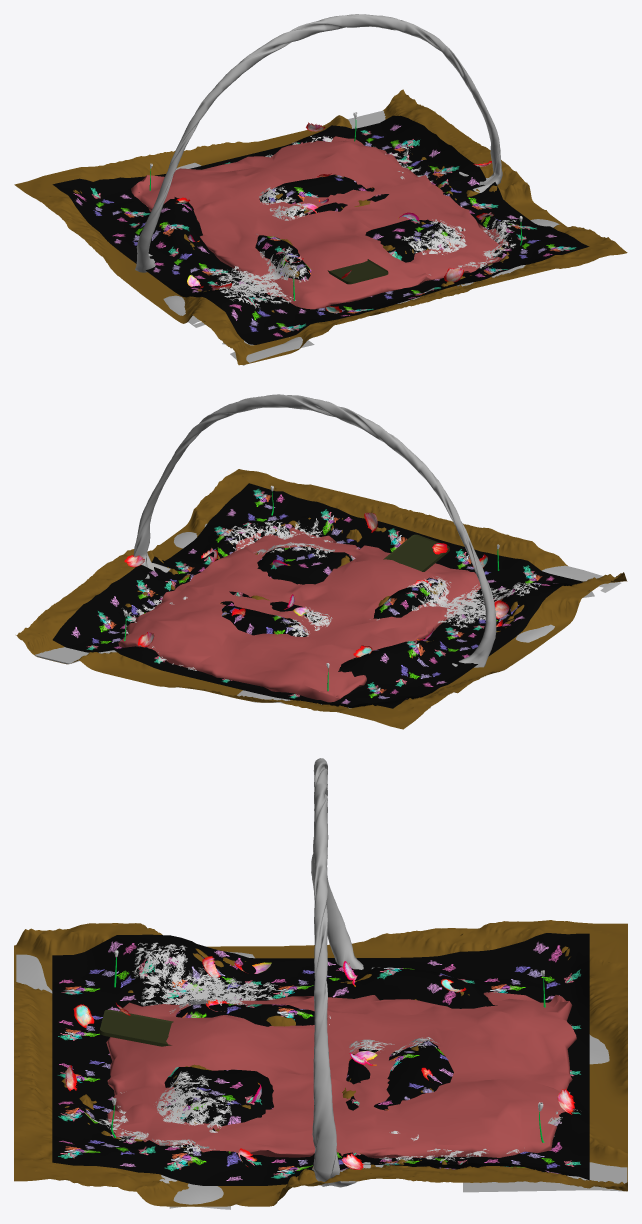
File: nuture.fbx
The picture shows the model from 3 angles, top to bottom: view 1: azimuth 30°, elevation 25°; view 2: azimuth 150°, elevation 25°; view 3: azimuth 270°, elevation 25°; orthographic projection. The views are drawn at different scales.
Parts seen in each view (by area): view 1: allconf, dir, terr, towelbase1, pPlane58, modern_mirror, pPlane63, pPlane61, polySurface5, pPlane62, pPlane60; view 2: allconf, dir, terr, towelbase1, modern_mirror, pPlane58, pPlane61, polySurface5, pPlane19, pPlane60; view 3: allconf, dir, terr, towelbase1, pPlane60, pPlane19, modern_mirror, pPlane62, pPlane63, pPlane59, polySurface1, polySurface5 (+2 smaller).
Boxes of the visible parts, box(x1,y1,x2,y2) form: allconf: box(52, 115, 589, 344); dir: box(131, 136, 508, 309); terr: box(14, 89, 627, 365); towelbase1: box(135, 14, 502, 272); pPlane58: box(237, 246, 308, 294); modern_mirror: box(327, 259, 388, 284); pPlane63: box(402, 229, 473, 275); pPlane61: box(212, 251, 291, 293); polySurface5: box(230, 337, 314, 365); pPlane62: box(430, 219, 490, 255); pPlane60: box(218, 271, 295, 303); allconf: box(52, 483, 585, 708); dir: box(118, 527, 480, 702); terr: box(16, 469, 627, 729); towelbase1: box(133, 394, 496, 667); modern_mirror: box(383, 534, 449, 571); pPlane58: box(407, 576, 483, 618); pPlane61: box(411, 582, 485, 628); polySurface5: box(542, 565, 621, 592); pPlane19: box(35, 647, 116, 664); pPlane60: box(434, 582, 520, 620); allconf: box(52, 933, 589, 1185); dir: box(106, 992, 576, 1158); terr: box(14, 920, 627, 1206); towelbase1: box(311, 758, 379, 1187); pPlane60: box(138, 951, 241, 1005); pPlane19: box(463, 1162, 627, 1192); modern_mirror: box(99, 1009, 173, 1046); pPlane62: box(134, 1089, 234, 1146); pPlane63: box(117, 1071, 211, 1122); pPlane59: box(132, 942, 186, 984); polySurface1: box(169, 1183, 230, 1209); polySurface5: box(16, 954, 52, 993).
Size of the model in its own units: 200 by 112 by 200.
